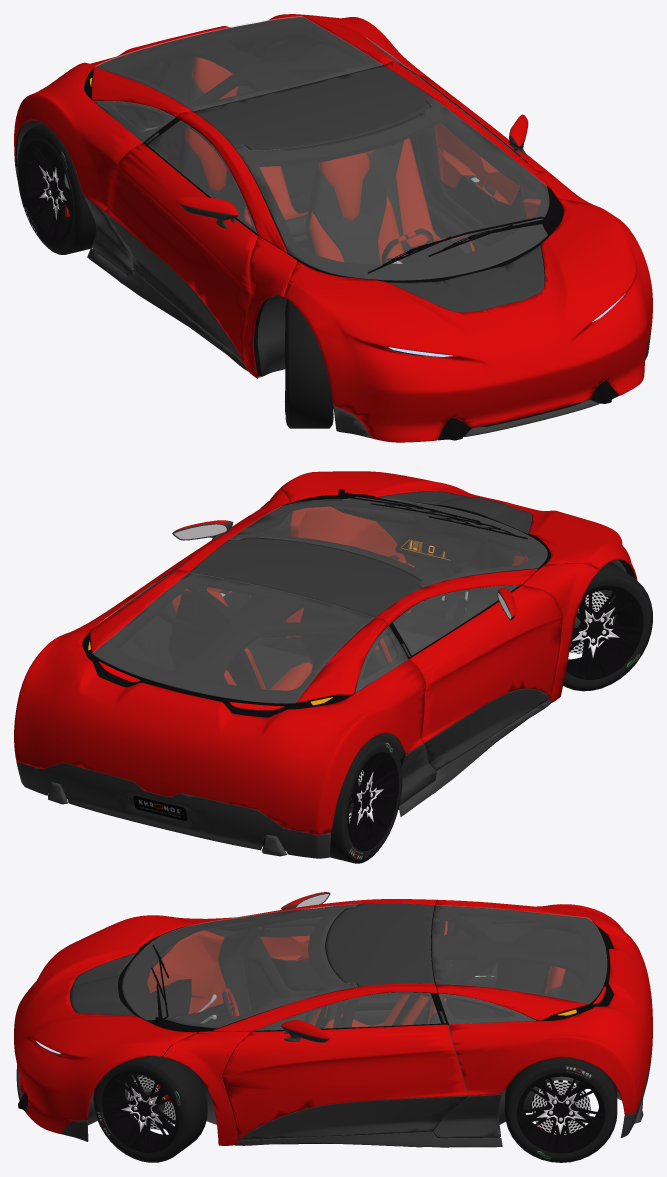
File: concept.glb
3 renders of one model, top to bottom at view 1: azimuth 30°, elevation 25°; view 2: azimuth 150°, elevation 25°; view 3: azimuth 270°, elevation 25°, orthographic. The views are drawn at different scales.
Parts seen in each view (by area): view 1: BodyHood, BodyWindshield, BodyRearwindow, BodyDoorRColor1, BodyRearPanelsColor1, BodyRoofPanel, BodyWindshieldGasket, InteriorSeatsColor1, InteriorSeatsColor2, BodyPillars, InteriorPillar, InteriorRearHatch (+21 smaller); view 2: BodyRearPanelsColor1, BodyRearwindow, BodyWindshield, BodyDoorRColor1, BodyPanelsColor2, BodyRoofPanel, BodyHood, InteriorRearHatch, BodyPillars, InteriorPillar, BodyWindshieldGasket, InteriorDashMid (+22 smaller); view 3: BodyRearPanelsColor1, BodyWindshield, BodyDoorLColor1, BodyHood, BodyRearwindow, BodyRoofPanel, BodyPillars, BodyWindshieldGasket, BodyDoorLColor2, BodyPanelsColor2, WheelFrontL, InteriorRearHatch (+25 smaller).
Part boxes in pixels (x1,y1,x2,y2): BodyHood: [283, 198, 652, 442]; BodyWindshield: [234, 98, 549, 280]; BodyRearwindow: [95, 16, 382, 110]; BodyDoorRColor1: [104, 143, 257, 363]; BodyRearPanelsColor1: [14, 14, 428, 210]; BodyRoofPanel: [193, 65, 432, 150]; BodyWindshieldGasket: [234, 99, 563, 282]; InteriorSeatsColor1: [185, 57, 475, 264]; InteriorSeatsColor2: [180, 78, 472, 264]; BodyPillars: [176, 61, 598, 378]; InteriorPillar: [158, 37, 434, 168]; InteriorRearHatch: [93, 17, 383, 117]; BodyRearPanelsColor1: [14, 569, 425, 834]; BodyRearwindow: [92, 573, 373, 703]; BodyWindshield: [229, 497, 547, 587]; BodyDoorRColor1: [409, 585, 562, 742]; BodyPanelsColor2: [16, 700, 550, 858]; BodyRoofPanel: [189, 537, 422, 617]; BodyHood: [279, 471, 637, 580]; InteriorRearHatch: [93, 573, 386, 707]; BodyPillars: [175, 489, 599, 702]; InteriorPillar: [174, 574, 417, 682]; BodyWindshieldGasket: [230, 497, 550, 587]; InteriorDashMid: [331, 503, 528, 622]; BodyRearPanelsColor1: [436, 899, 652, 1115]; BodyWindshield: [122, 904, 357, 1028]; BodyDoorLColor1: [222, 1024, 467, 1140]; BodyHood: [14, 915, 196, 1133]; BodyRearwindow: [432, 905, 606, 1003]; BodyRoofPanel: [326, 903, 434, 986]; BodyPillars: [163, 899, 437, 1145]; BodyWindshieldGasket: [118, 905, 357, 1032]; BodyDoorLColor2: [240, 1096, 467, 1140]; BodyPanelsColor2: [16, 1050, 652, 1147]; WheelFrontL: [93, 1054, 207, 1162]; InteriorRearHatch: [431, 905, 606, 1020].
Size of the model in its own units: 2.54 by 1.15 by 4.36.
Materials: 23 (6 with a texture image).
